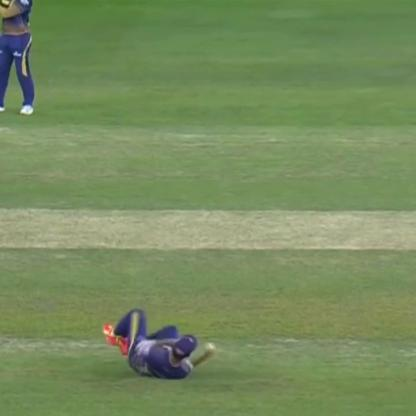ball: (202, 340, 218, 354)
